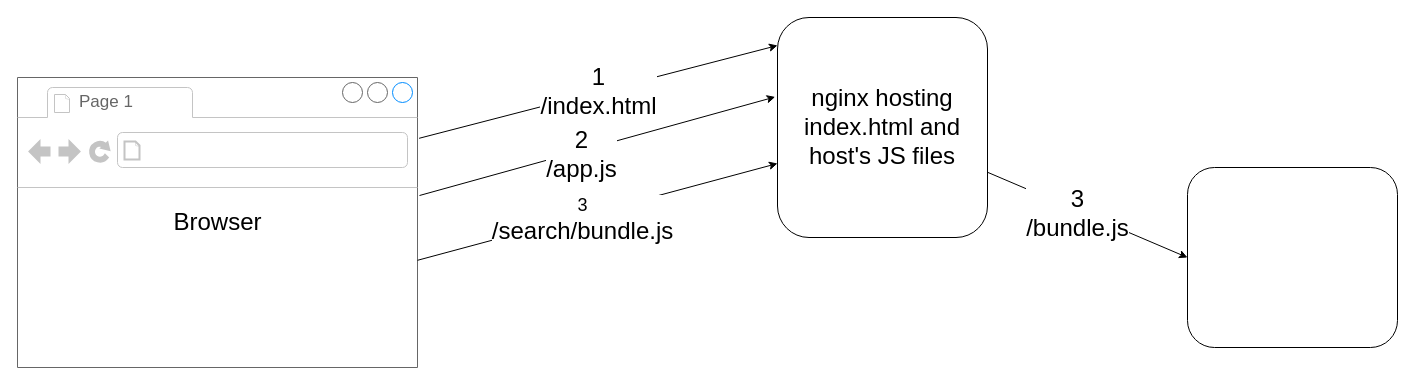
Image size: 1415x385. Some labels were removed from this diagram. The shapes that lost their labels are listed below. From the top down, each one's centre as x and y in pixels, then its label:
At (272,150): "https://www.draw.io".
At (1292,257): "nginx hosting search micro-frontend's JS files".
